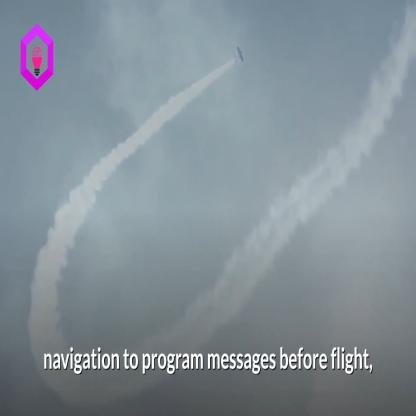plane: (233, 41, 252, 70)
